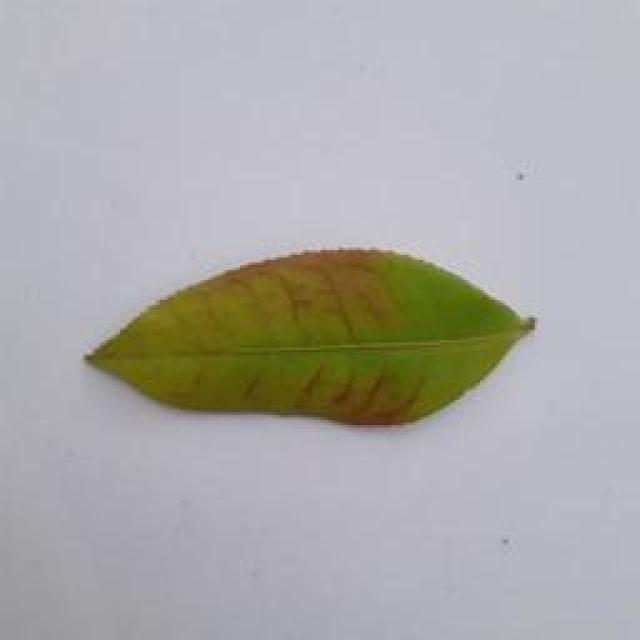Red Leaf Spot: (82, 222, 536, 450)
